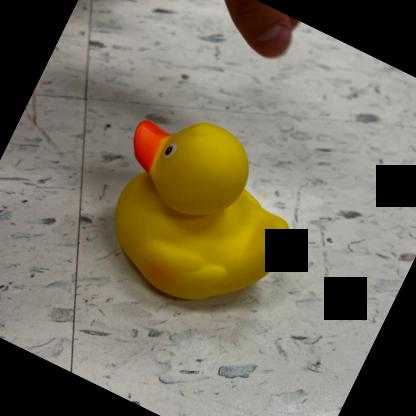duck: (73, 91, 326, 340)
